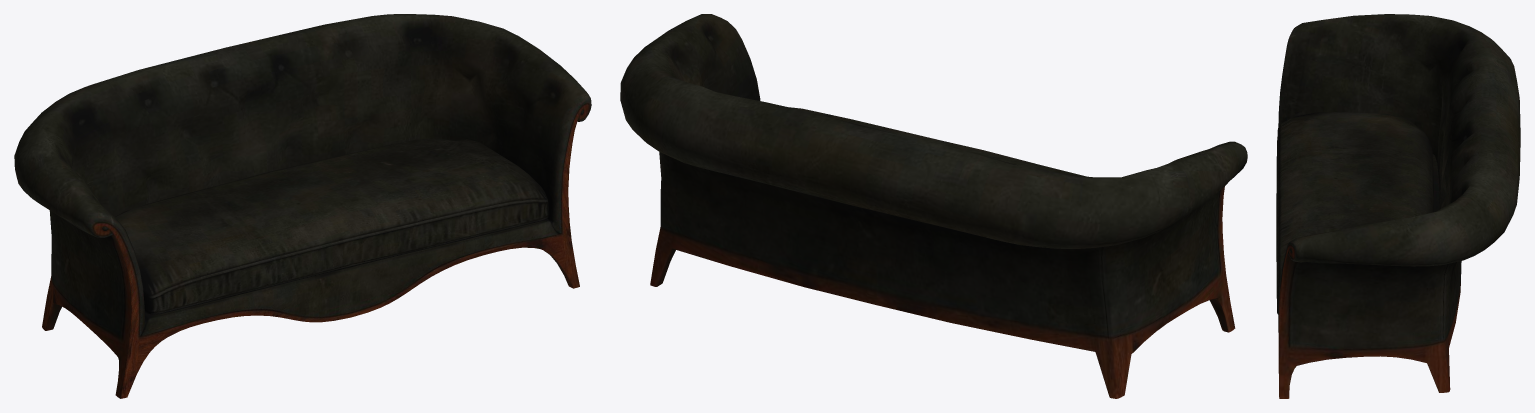
File: sofa_02.glb
The picture shows the model from 3 angles, left to right: view 1: azimuth 30°, elevation 25°; view 2: azimuth 150°, elevation 25°; view 3: azimuth 270°, elevation 25°; orthographic projection. The views are drawn at different scales.
Visible parts, largest first — view 1: sofa_02_Base, sofa_02_Seat; view 2: sofa_02_Base, sofa_02_Seat; view 3: sofa_02_Base, sofa_02_Seat.
Part boxes in pixels (x1,y1,x2,y2): sofa_02_Base: (14,14,591,398); sofa_02_Seat: (115,139,549,314); sofa_02_Base: (620,14,1247,398); sofa_02_Seat: (789,107,1086,176); sofa_02_Base: (1278,14,1520,398); sofa_02_Seat: (1276,112,1433,314).
Bounding box in the file's own units: 1.81 × 0.7095 × 0.8178.
Materials: 1 (1 with a texture image).
